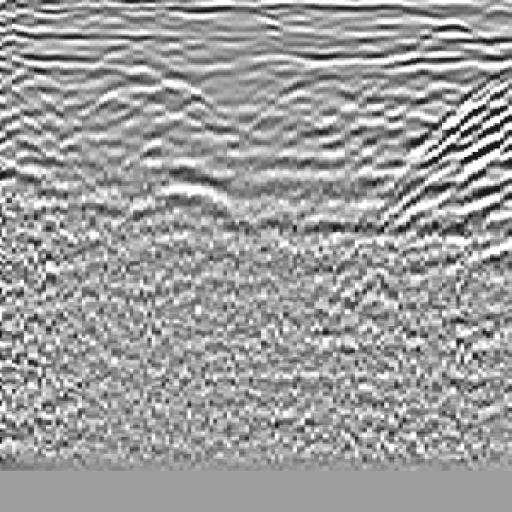metalic: (99, 39, 273, 261)
nonmetalic: (370, 65, 511, 268)
